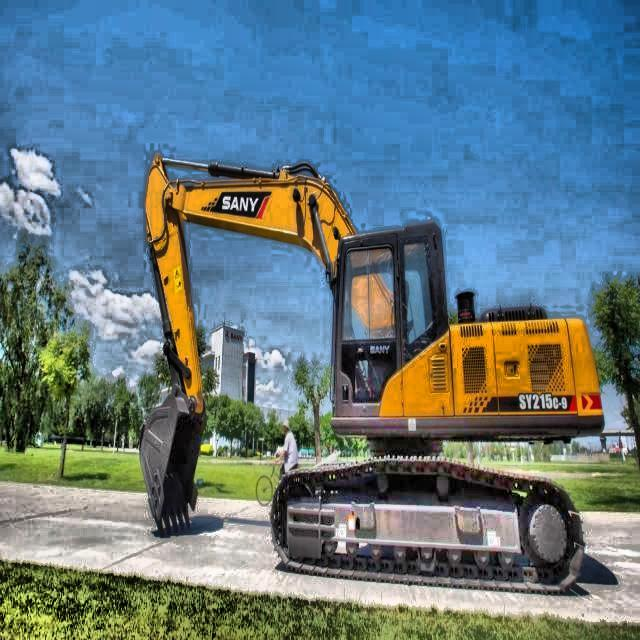excavator: (135, 152, 611, 594)
